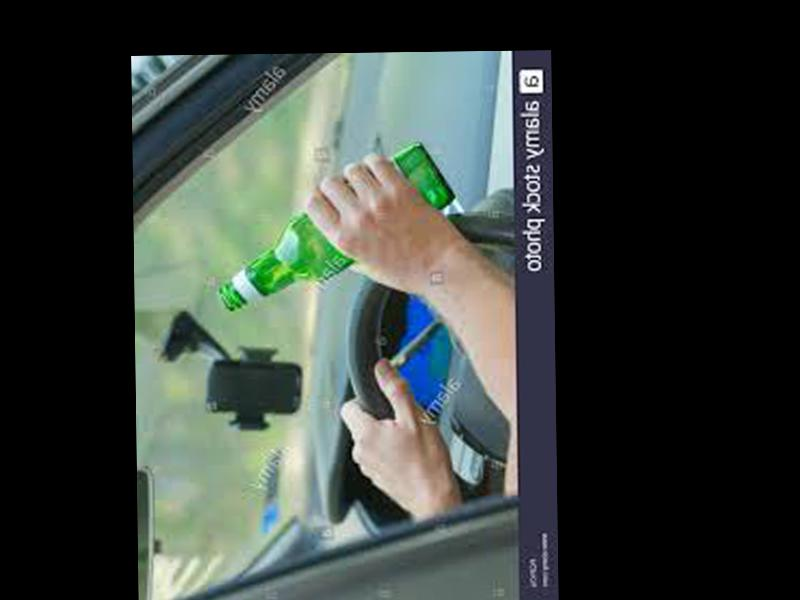Beer: (219, 147, 459, 309)
